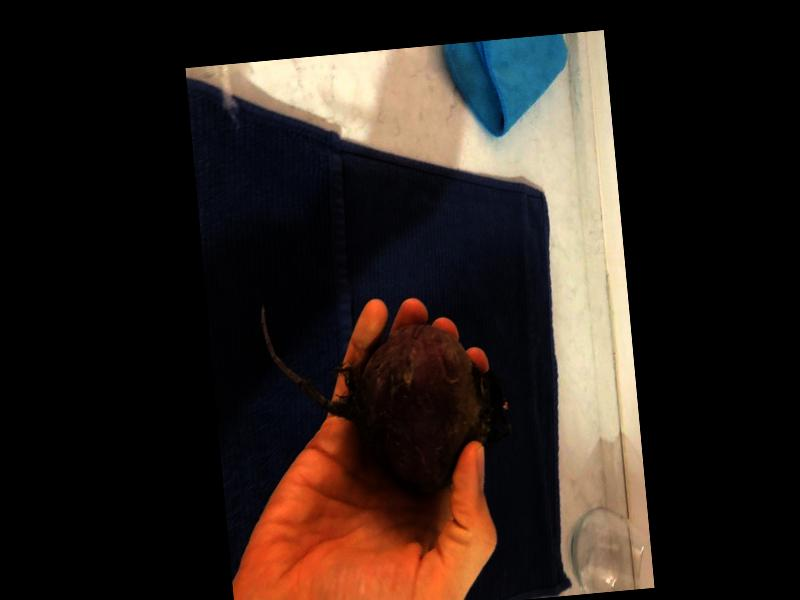Beet: (259, 280, 515, 508)
